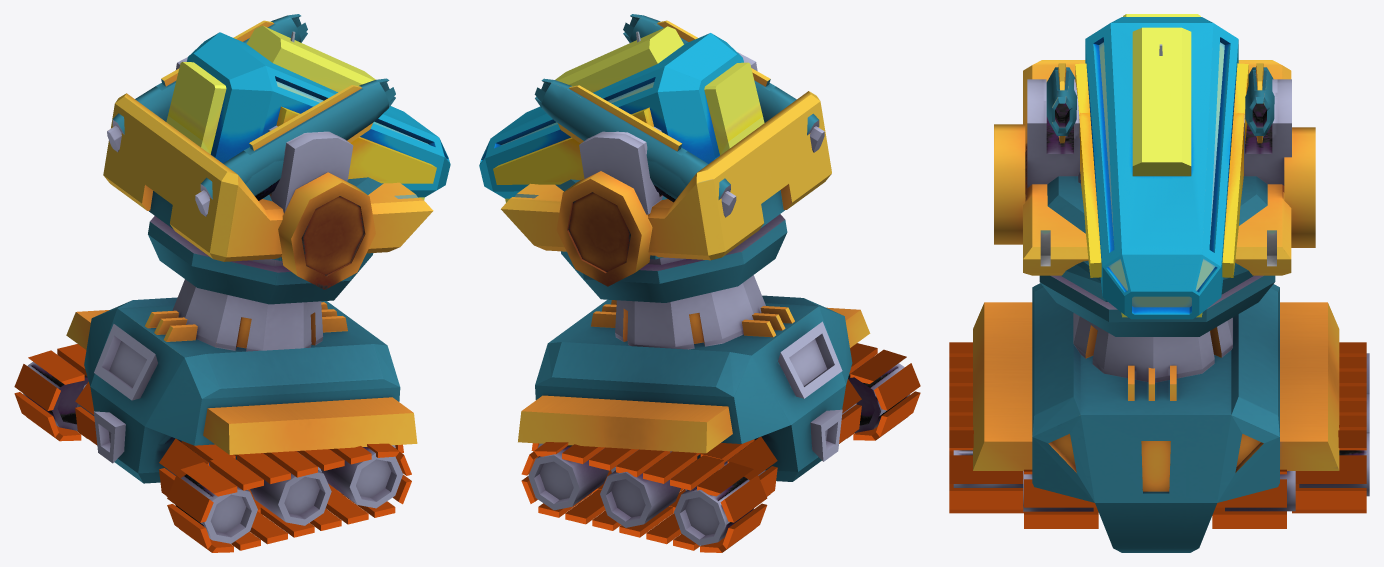
Rendered from Player_move_2_Upgrade16.obj.
3 views of the same model, side by side, from view 1: azimuth 30°, elevation 25°; view 2: azimuth 150°, elevation 25°; view 3: azimuth 270°, elevation 25° (orthographic). The views are drawn at different scales.
Visible parts, largest first — view 1: Object015, Box020, Box018, Object014, Box019, Box017, Box016; view 2: Object015, Box019, Box018, Object014, Box020, Box016, Box017; view 3: Object015, Box019, Box020, Object014, Box017, Box016, Box018, Box009.
Boxes of the visible parts, left/top/right/bottom form: Object015: left=66, top=25, right=450, bottom=483; Box020: left=167, top=443, right=411, bottom=552; Box018: left=23, top=355, right=402, bottom=543; Object014: left=107, top=14, right=395, bottom=216; Box019: left=14, top=344, right=87, bottom=441; Box017: left=159, top=438, right=403, bottom=513; Box016: left=75, top=381, right=97, bottom=445; Object015: left=479, top=26, right=870, bottom=481; Box019: left=521, top=442, right=767, bottom=552; Box018: left=528, top=361, right=909, bottom=545; Object014: left=534, top=14, right=824, bottom=217; Box020: left=847, top=343, right=920, bottom=440; Box016: left=531, top=436, right=777, bottom=512; Box017: left=839, top=379, right=861, bottom=443; Object015: left=973, top=14, right=1339, bottom=552; Box019: left=1292, top=342, right=1366, bottom=513; Box020: left=949, top=342, right=1023, bottom=513; Object014: left=1046, top=63, right=1274, bottom=143; Box017: left=1024, top=469, right=1098, bottom=528; Box016: left=1212, top=469, right=1286, bottom=528; Box018: left=953, top=353, right=1369, bottom=496; Box009: left=1023, top=471, right=1295, bottom=511.
Size of the model in its own units: 70.38 by 88.9 by 68.55.
6 materials, 4 textured.
